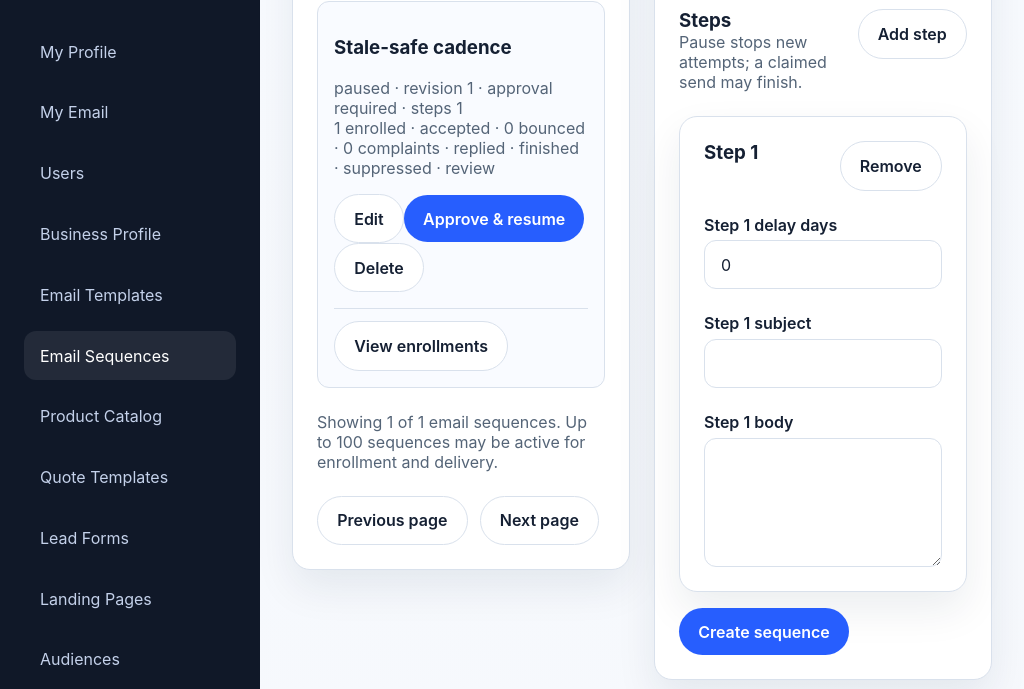
settings email sequences route › discards an enrollment response after the drill-down closes
This screenshot has width=1024, height=689.
(page scrolled)
Click the button "View enrollments".
click(421, 346)  # box x1=334 y1=321 x2=508 y2=371
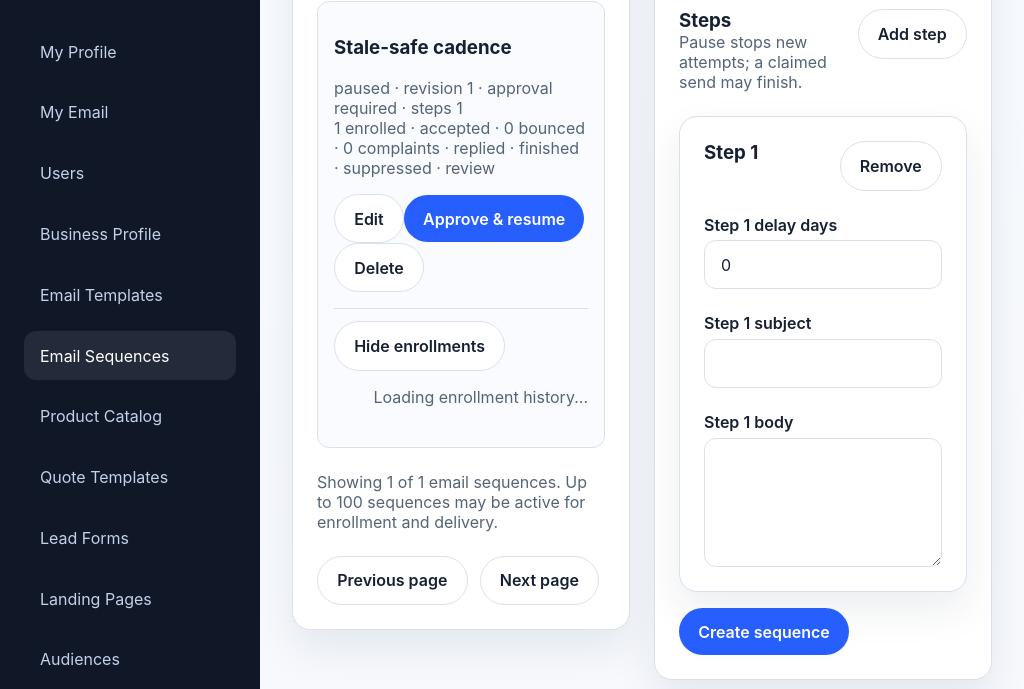
Click the button "Hide enrollments".
click(420, 346)  # box x1=334 y1=321 x2=505 y2=371
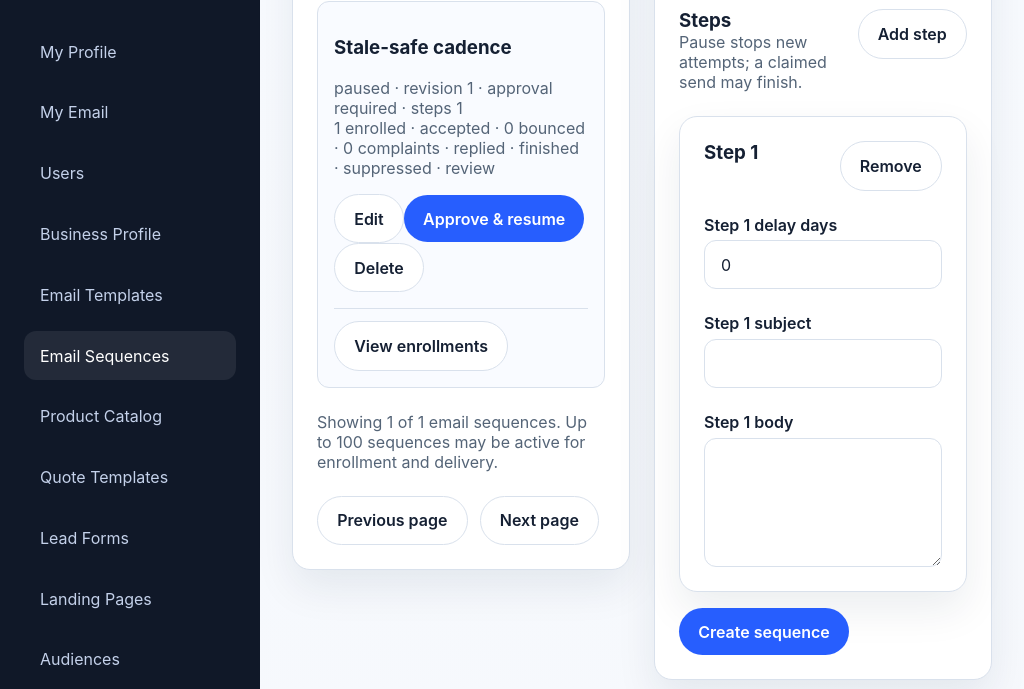
Click the button "View enrollments".
click(421, 346)  # box x1=334 y1=321 x2=508 y2=371
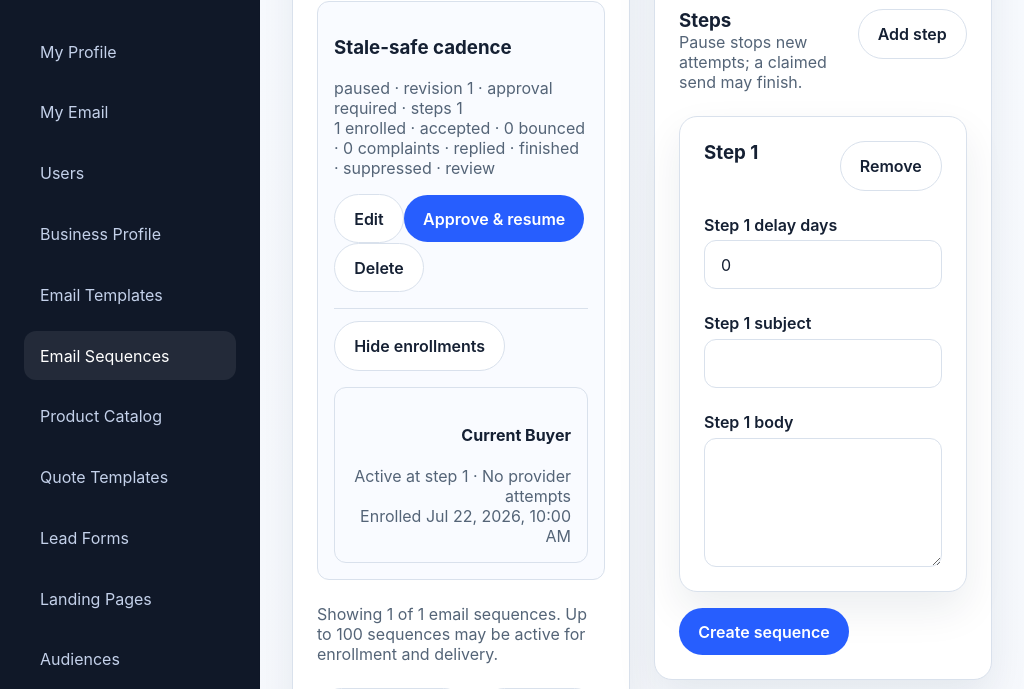
Expected: the link "Current Buyer" is shown, x1=461 y1=425 x2=571 y2=445
